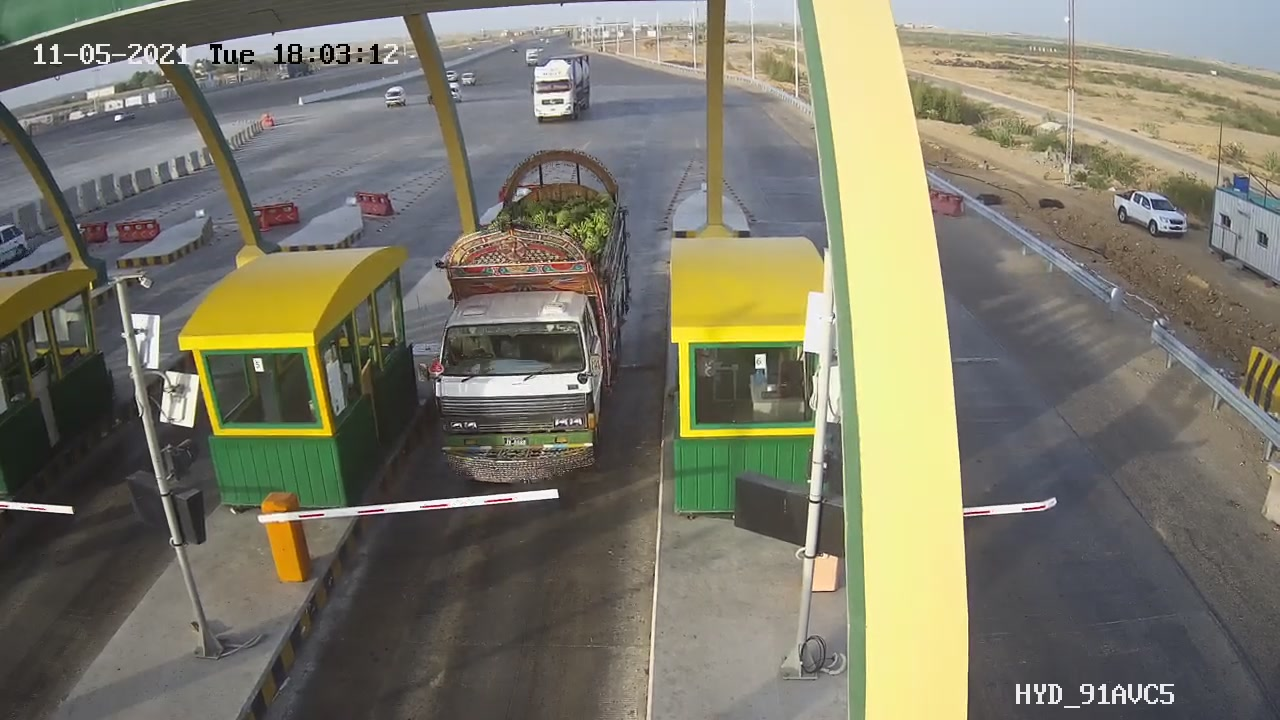F5: (412, 131, 647, 499)
